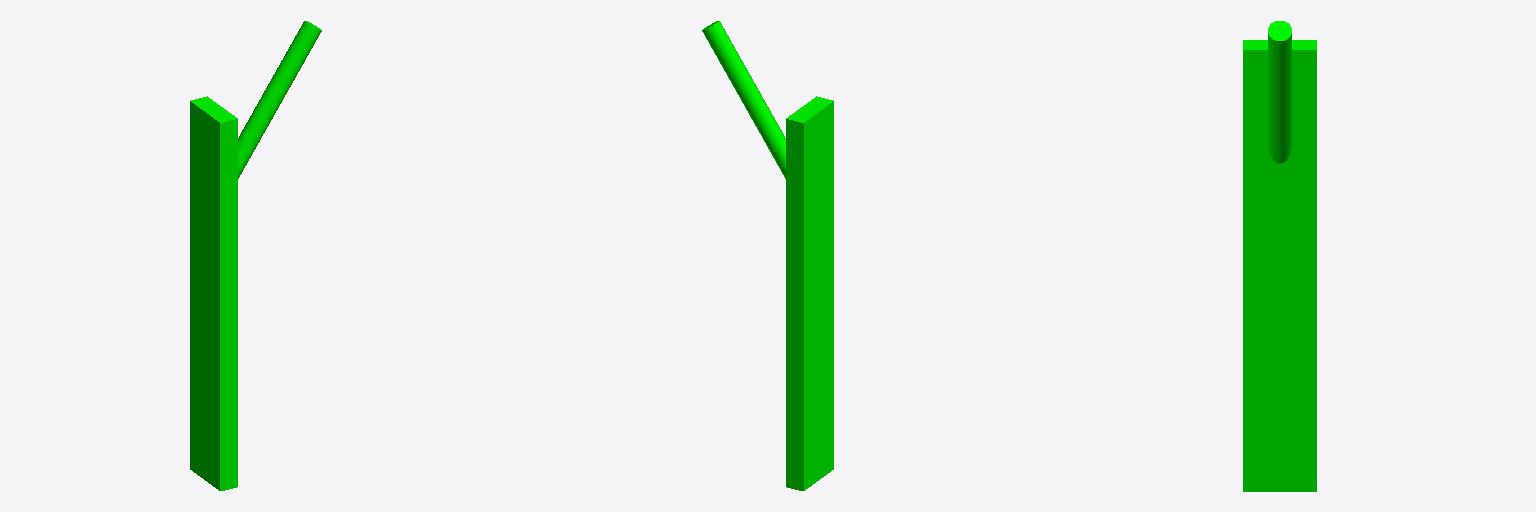
URDF robot description (hanger):
<?xml version="0.0" ?>
<robot name="hanger">
  <link name="base_link">
    <contact>
      <lateral_friction value="0.8"/>
      <rolling_friction value="0.0001"/>
      <spinning_friction value="0.8"/>
    </contact>
    <inertial>
      <origin rpy="0 0 0" xyz="0 0 0"/>
       <mass value=".0"/>
       <inertia ixx="1" ixy="0" ixz="0" iyy="1" iyz="0" izz="1"/>
    </inertial>

    <!--visual>
      <origin rpy="0 0 0" xyz="0 0 0.15"/>
      <geometry>
        <cylinder length="0.3" radius="0.005"/>
      </geometry>
       <material name="green">
        <color rgba="0 1 0 1"/>
      </material>
    </visual>
    <collision>
      <origin rpy="0 0 0" xyz="0 0 0.15"/>
      <geometry>
        <cylinder length="0.3" radius="0.005"/>
      </geometry>
    </collision-->

    <visual>
      <origin rpy="0 0 0" xyz="0 0 0.10"/>
      <geometry>
        <box size="0.01 0.03 0.20" />
      </geometry>
       <material name="green">
        <color rgba="0 1 0 1"/>
      </material>
    </visual>
    <collision>
      <origin rpy="0 0 0" xyz="0 0 0.10"/>
      <geometry>
        <box size="0.01 0.03 0.20" />
      </geometry>
    </collision>
  </link>

  <link name="branch">
    <contact>
      <lateral_friction value="0.1"/>
      <rolling_friction value="0.0001"/>
      <spinning_friction value="0.1"/>
    </contact>
    <inertial>
      <origin rpy="0 0 0" xyz="0 0 0"/>
       <mass value=".0"/>
       <inertia ixx="1" ixy="0" ixz="0" iyy="1" iyz="0" izz="1"/>
    </inertial>
    <visual>
      <origin rpy="0 0 0" xyz="0 0 0.05"/>
      <geometry>
        <cylinder length="0.1" radius="0.005"/>
      </geometry>
       <material name="green">
        <color rgba="0 1 0 1"/>
      </material>
    </visual>
    <collision>
      <origin rpy="0 0 0" xyz="0 0 0.05"/>
      <geometry>
        <cylinder length="0.1" radius="0.003"/>
      </geometry>
    </collision>
  </link>

  <!--joint name="base_to_branch" type="fixed">
    <parent link="base_link"/>
    <child link="branch"/>
    <origin rpy="0 1.0471975511965977461 0" xyz="0 0 0.2"/>
  </joint-->
  <joint name="base_to_branch" type="fixed">
    <parent link="base_link"/>
    <child link="branch"/>
    <origin rpy="0 0.60 0" xyz="0 0 0.15"/>
  </joint>

</robot>

--- Render facts (derived) ---
3 views of the same robot in one strip: view 1: azimuth 30°, elevation 25°; view 2: azimuth 150°, elevation 25°; view 3: azimuth 270°, elevation 25° (orthographic).
Model hanger with 2 links and 1 joints (1 fixed), rooted at base_link, posed all joints at 0.
Links seen in each view (by area): view 1: base_link, branch; view 2: base_link, branch; view 3: base_link, branch.
Boxes of the visible links, x1,y1,x2,y2 form: base_link: (190,96,237,490); branch: (238,21,321,178); base_link: (786,96,833,490); branch: (702,21,785,178); base_link: (1243,40,1316,491); branch: (1268,21,1291,163).
Size in the robot's own frame: 0.0656 by 0.03 by 0.2354 metres.
Geometry: primitives only (box / cylinder / sphere), no mesh files.